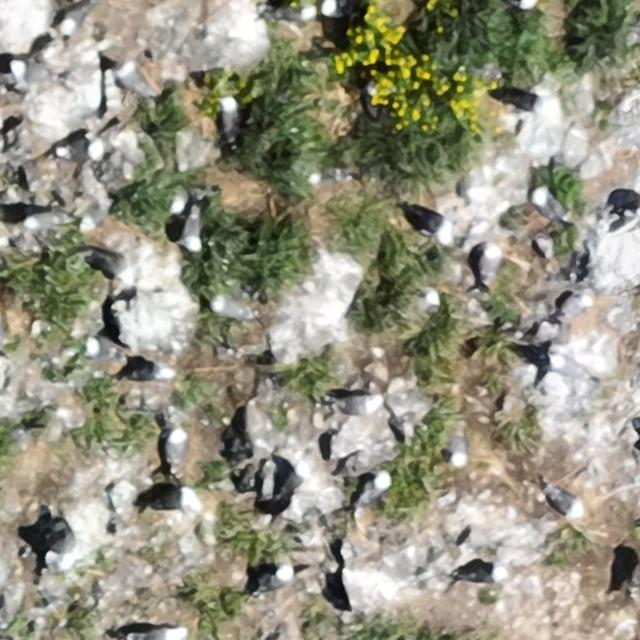umineko: (410, 202, 460, 248), (37, 528, 75, 572), (8, 59, 62, 89), (90, 252, 135, 286), (149, 485, 199, 515), (276, 464, 310, 508), (545, 352, 591, 382), (123, 356, 175, 382), (115, 63, 151, 99), (61, 1, 91, 44), (359, 474, 390, 506), (532, 190, 563, 221), (548, 490, 582, 518), (84, 332, 118, 360), (210, 297, 252, 318), (55, 137, 94, 159), (331, 396, 375, 415), (272, 5, 318, 23), (166, 428, 186, 468), (257, 568, 290, 592), (459, 566, 503, 584), (221, 96, 239, 139), (183, 211, 202, 251), (480, 247, 500, 282), (24, 214, 62, 232), (449, 433, 467, 465), (508, 95, 544, 111), (136, 626, 179, 638), (500, 0, 535, 7)
